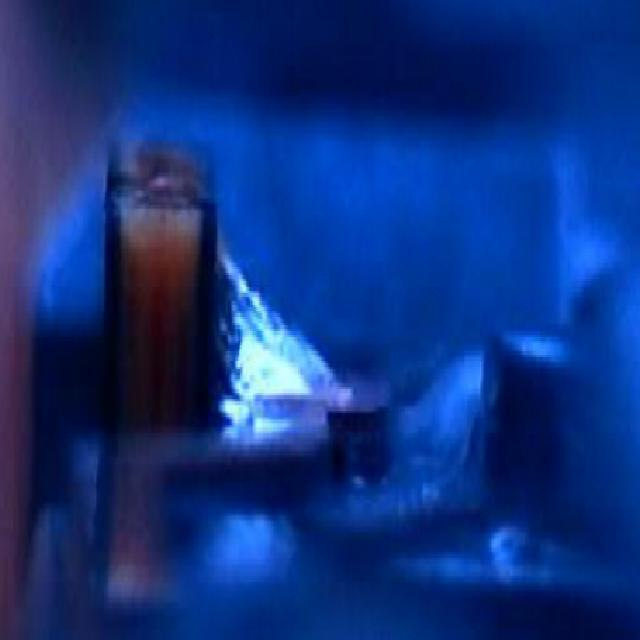Good: (199, 211, 359, 443)
